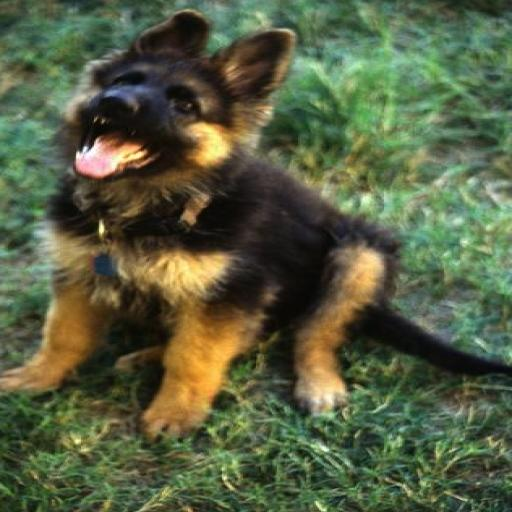dog_face: (86, 9, 287, 187)
